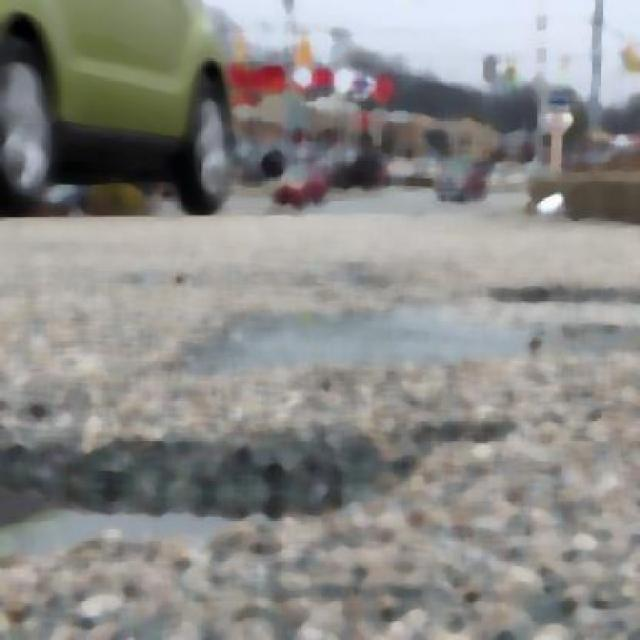Pothole: (0, 408, 320, 552), (227, 318, 631, 364)
